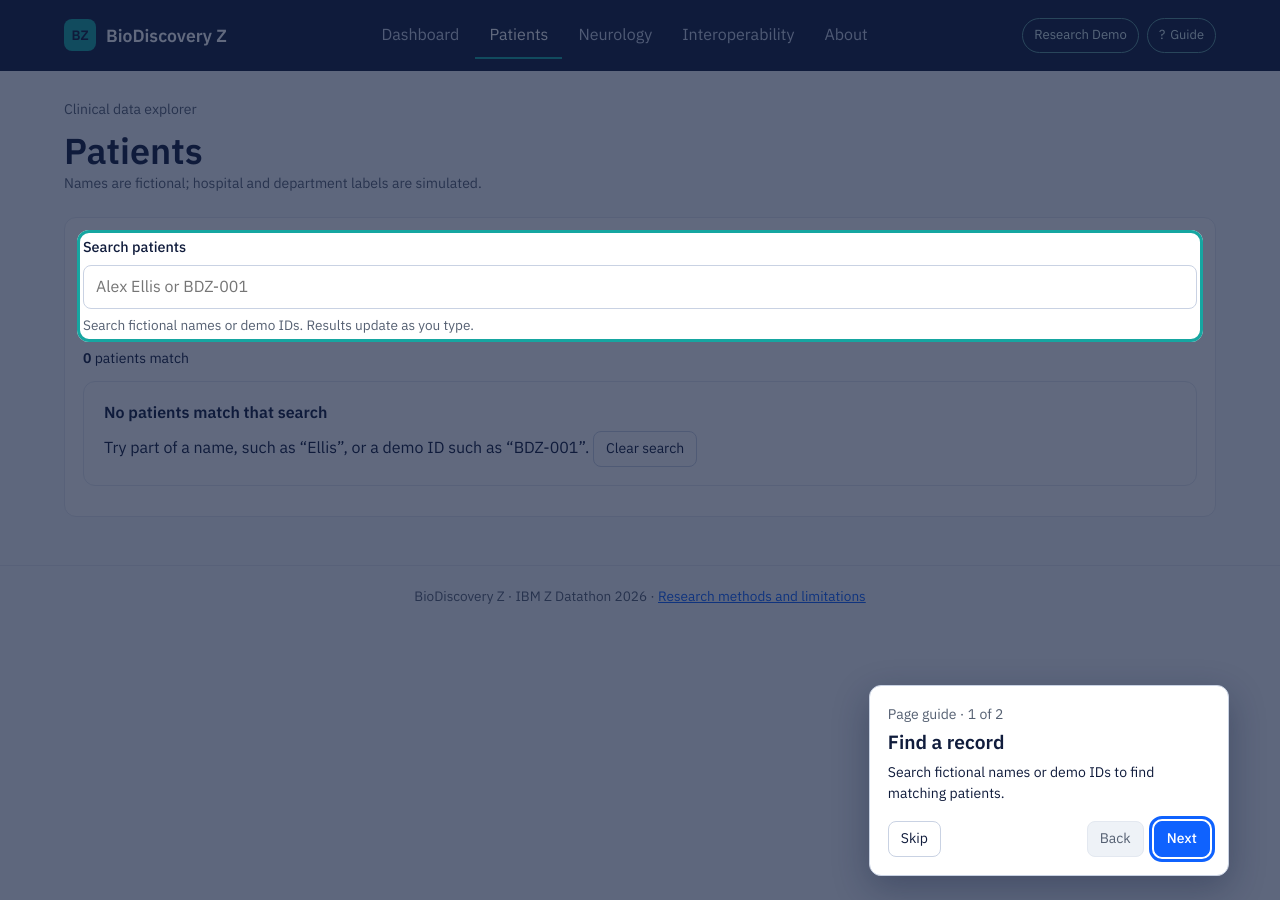
Test: Navigation › guides a patient search, supports back and finish, and saves only the page key
The width and height of the screenshot is (1280, 900).
Click the button "Next". click: (1182, 839)
box: [1154, 821, 1210, 857]
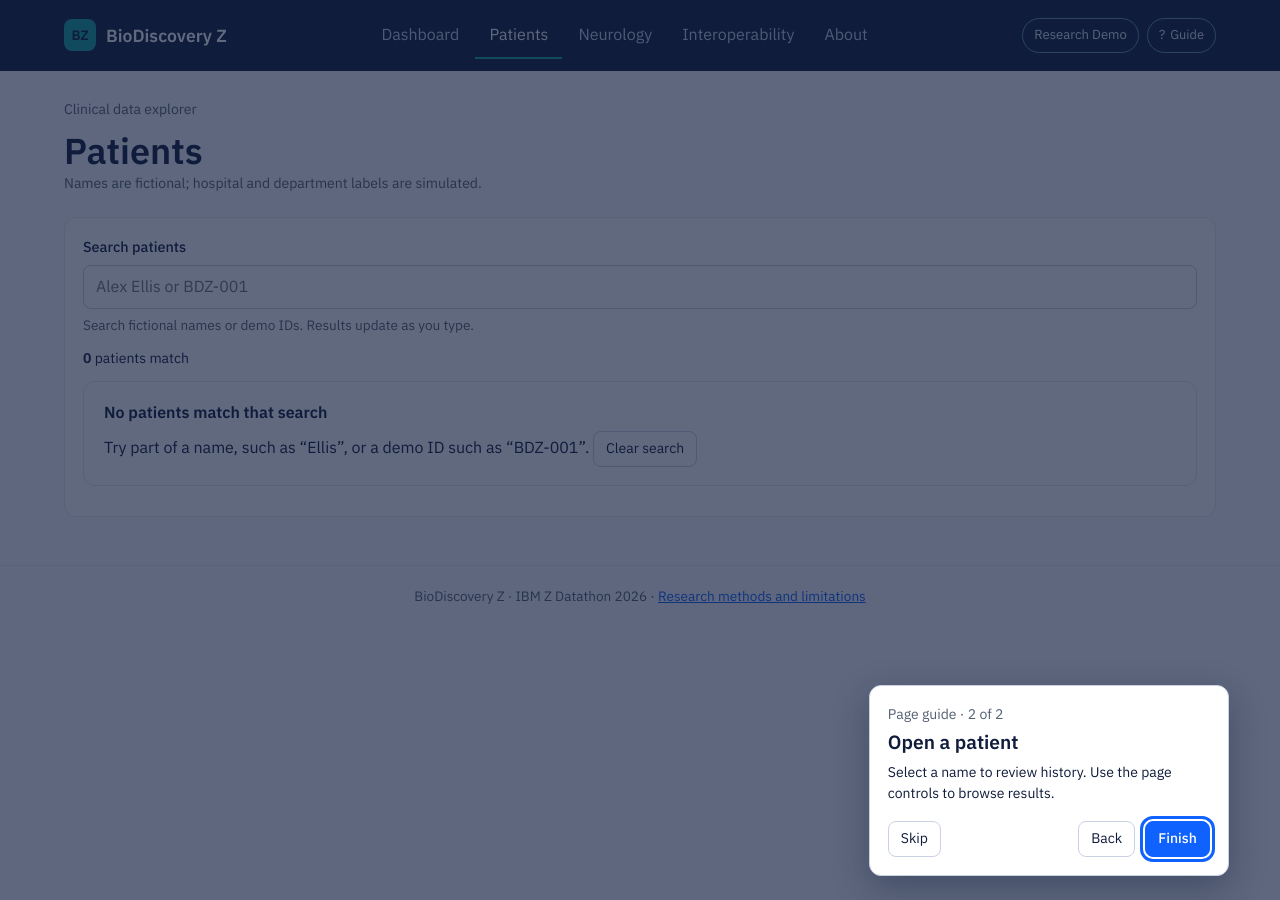
Result: the dialog "Open a patient" is shown at [869, 685, 1229, 876]
Click the button "Back". click: (1107, 839)
box: [1078, 821, 1135, 857]
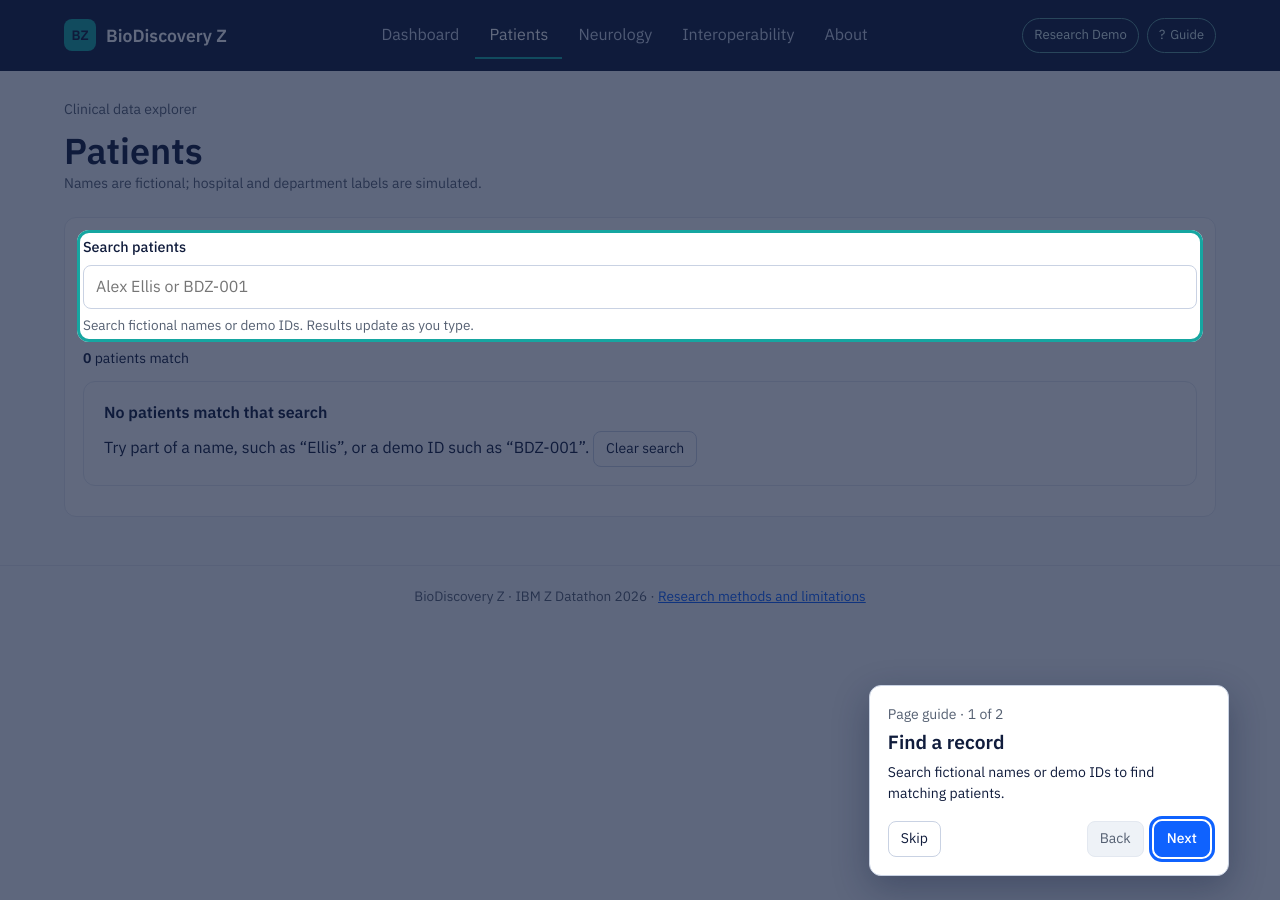
Result: the dialog "Find a record" is shown at [869, 685, 1229, 876]
Click the button "Next". click: (1182, 839)
box: [1154, 821, 1210, 857]
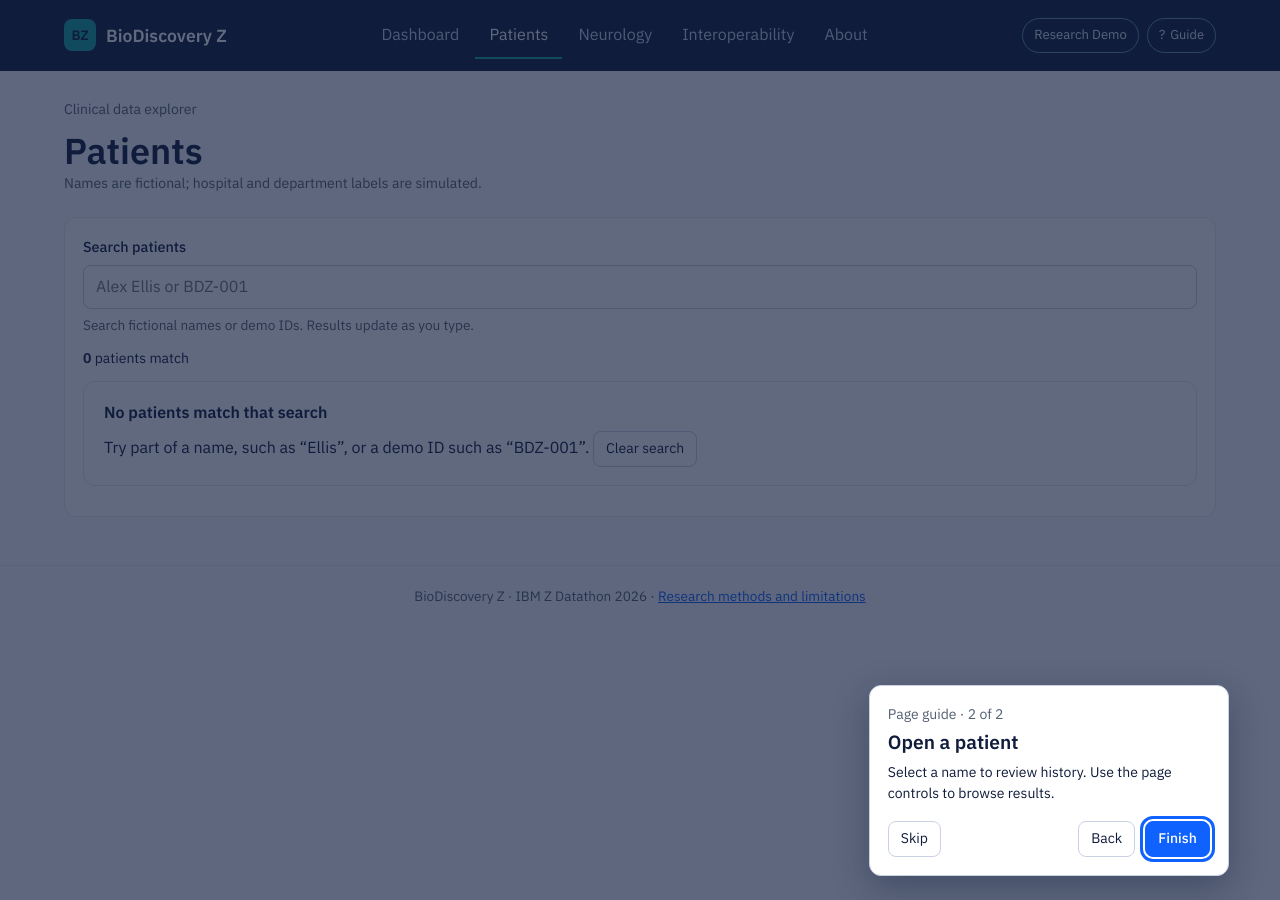
Click the button "Finish". click: (1178, 839)
box: [1145, 821, 1210, 857]
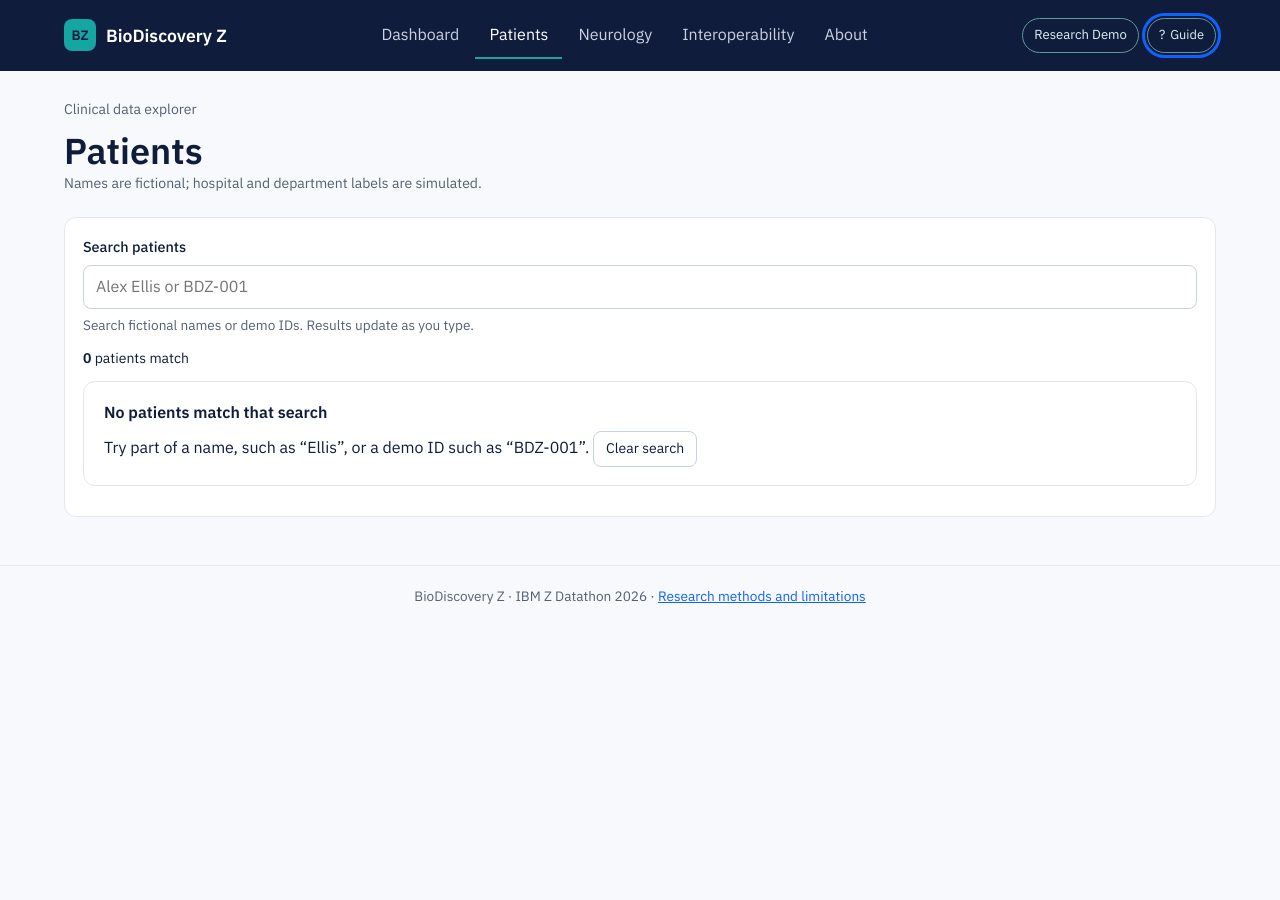
Result: the dialog is gone
